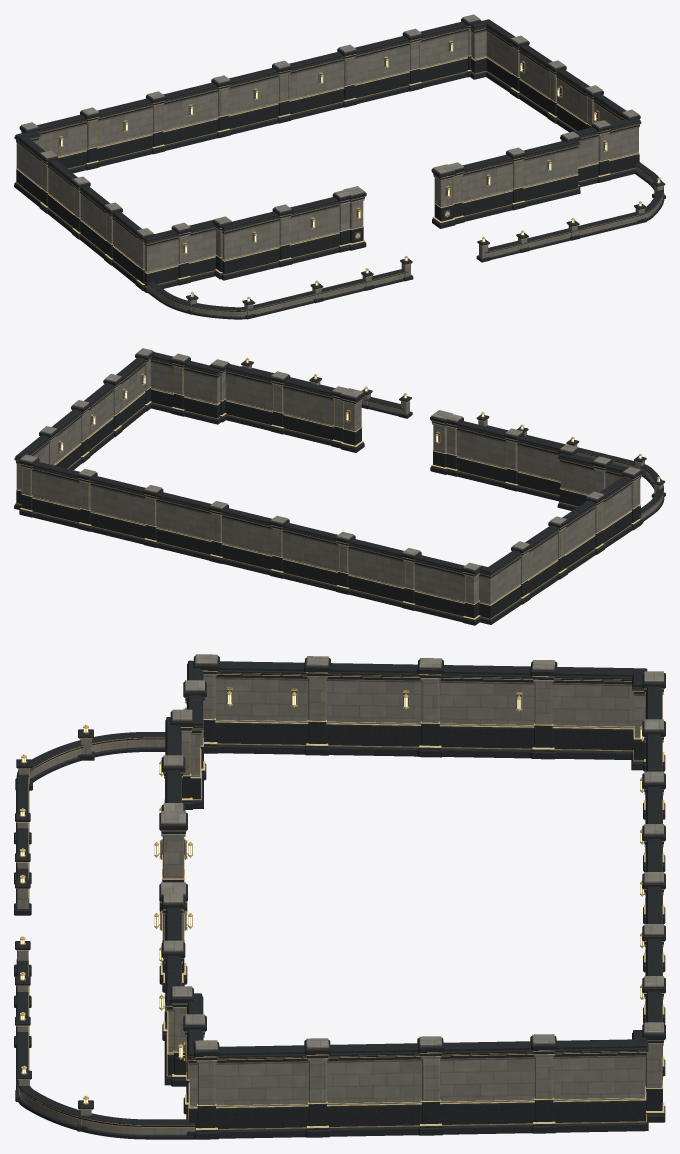
The model's file is casino_perimeter_walls.glb.
The picture shows the model from 3 angles, top to bottom: view 1: azimuth 30°, elevation 25°; view 2: azimuth 150°, elevation 25°; view 3: azimuth 270°, elevation 25°; orthographic projection. The views are drawn at different scales.
Visible parts, largest first — view 1: Main_Perimeter__Ashlar_Stone, Main_Perimeter__Charcoal_Stone, Main_Perimeter__Satin_Slate, Perimeter_Pilasters__Ashlar_Stone, Perimeter_Pilasters__Charcoal_Stone, Perimeter_Pilasters__Satin_Slate, Main_Perimeter__Champagne_Gold, Forecourt_Left_Curved_Wall__Satin_Slate, Main_Perimeter__Antique_Brass, Forecourt_Right_Curved_Wall__Satin_Slate, Main_Perimeter__Light_Stone, Forecourt_Left_Curved_Wall__Ashlar_Stone (+9 smaller); view 2: Main_Perimeter__Ashlar_Stone, Main_Perimeter__Charcoal_Stone, Main_Perimeter__Satin_Slate, Perimeter_Pilasters__Ashlar_Stone, Perimeter_Pilasters__Charcoal_Stone, Perimeter_Pilasters__Satin_Slate, Main_Perimeter__Champagne_Gold, Main_Perimeter__Antique_Brass, Main_Perimeter__Light_Stone, Entrance_Jambs__Ashlar_Stone, Perimeter_Pilasters__Champagne_Gold, Forecourt_Left_Curved_Wall__Satin_Slate (+7 smaller); view 3: Main_Perimeter__Ashlar_Stone, Main_Perimeter__Satin_Slate, Main_Perimeter__Charcoal_Stone, Perimeter_Pilasters__Ashlar_Stone, Perimeter_Pilasters__Satin_Slate, Perimeter_Pilasters__Charcoal_Stone, Forecourt_Right_Curved_Wall__Satin_Slate, Main_Perimeter__Champagne_Gold, Forecourt_Left_Curved_Wall__Satin_Slate, Main_Perimeter__Antique_Brass, Forecourt_Low_Piers__Satin_Slate, Main_Perimeter__Light_Stone (+8 smaller).
Boxes of the visible parts, x1,y1,x2,y2 form: Main_Perimeter__Ashlar_Stone: (16, 31, 638, 273); Main_Perimeter__Charcoal_Stone: (16, 28, 639, 286); Main_Perimeter__Satin_Slate: (14, 19, 641, 292); Perimeter_Pilasters__Ashlar_Stone: (21, 14, 639, 269); Perimeter_Pilasters__Charcoal_Stone: (21, 26, 623, 286); Perimeter_Pilasters__Satin_Slate: (19, 18, 640, 290); Main_Perimeter__Champagne_Gold: (15, 28, 640, 273); Forecourt_Left_Curved_Wall__Satin_Slate: (145, 269, 408, 319); Main_Perimeter__Antique_Brass: (15, 27, 640, 287); Forecourt_Right_Curved_Wall__Satin_Slate: (485, 162, 664, 259); Main_Perimeter__Light_Stone: (16, 30, 639, 247); Forecourt_Left_Curved_Wall__Ashlar_Stone: (147, 273, 404, 316); Main_Perimeter__Ashlar_Stone: (16, 362, 640, 605); Main_Perimeter__Charcoal_Stone: (16, 360, 641, 618); Main_Perimeter__Satin_Slate: (14, 352, 643, 624); Perimeter_Pilasters__Ashlar_Stone: (20, 348, 640, 603); Perimeter_Pilasters__Charcoal_Stone: (20, 358, 640, 620); Perimeter_Pilasters__Satin_Slate: (19, 351, 641, 625); Main_Perimeter__Champagne_Gold: (15, 360, 641, 605); Main_Perimeter__Antique_Brass: (14, 359, 642, 619); Main_Perimeter__Light_Stone: (16, 361, 640, 578); Entrance_Jambs__Ashlar_Stone: (341, 388, 453, 453); Perimeter_Pilasters__Champagne_Gold: (20, 357, 640, 619); Forecourt_Left_Curved_Wall__Satin_Slate: (486, 425, 664, 521); Main_Perimeter__Ashlar_Stone: (168, 679, 645, 1107); Main_Perimeter__Satin_Slate: (164, 660, 662, 1138); Main_Perimeter__Charcoal_Stone: (167, 674, 646, 1129); Perimeter_Pilasters__Ashlar_Stone: (163, 654, 663, 1128); Perimeter_Pilasters__Satin_Slate: (161, 655, 665, 1139); Perimeter_Pilasters__Charcoal_Stone: (163, 671, 664, 1131); Forecourt_Right_Curved_Wall__Satin_Slate: (16, 959, 194, 1139); Main_Perimeter__Champagne_Gold: (166, 674, 647, 1108); Forecourt_Left_Curved_Wall__Satin_Slate: (16, 732, 165, 903); Main_Perimeter__Antique_Brass: (165, 672, 647, 1130); Forecourt_Low_Piers__Satin_Slate: (14, 729, 94, 1131); Main_Perimeter__Light_Stone: (167, 677, 646, 1065).
Size of the model in its own units: 27.86 by 2.98 by 19.37.
8 materials, 4 textured.
